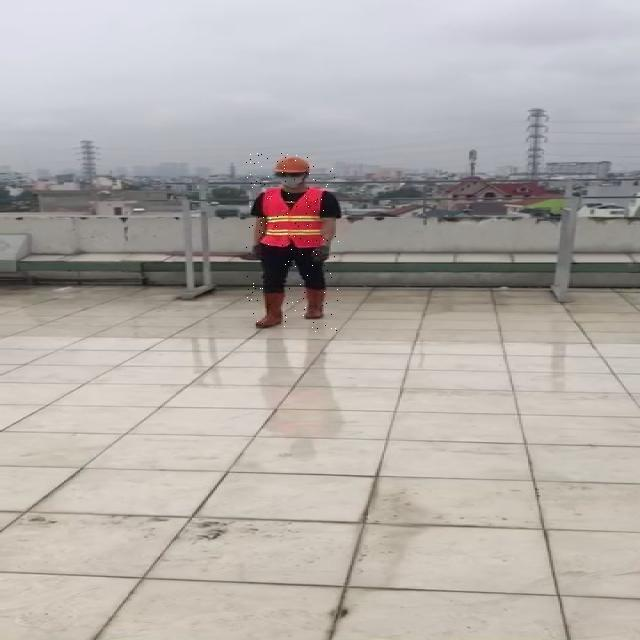gloves: (309, 246, 329, 263), (252, 244, 265, 260)
goggles: (274, 173, 308, 178)
helmet: (272, 156, 312, 176)
safety_vest: (259, 189, 329, 248)
